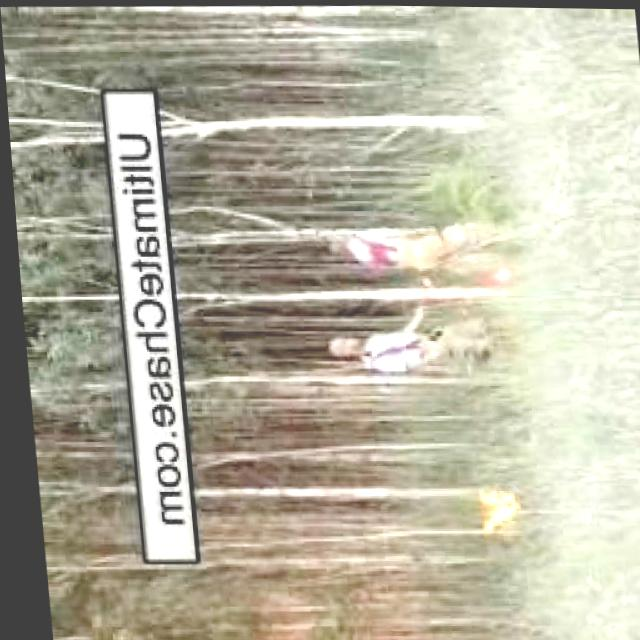Fire: (465, 485, 515, 535)
